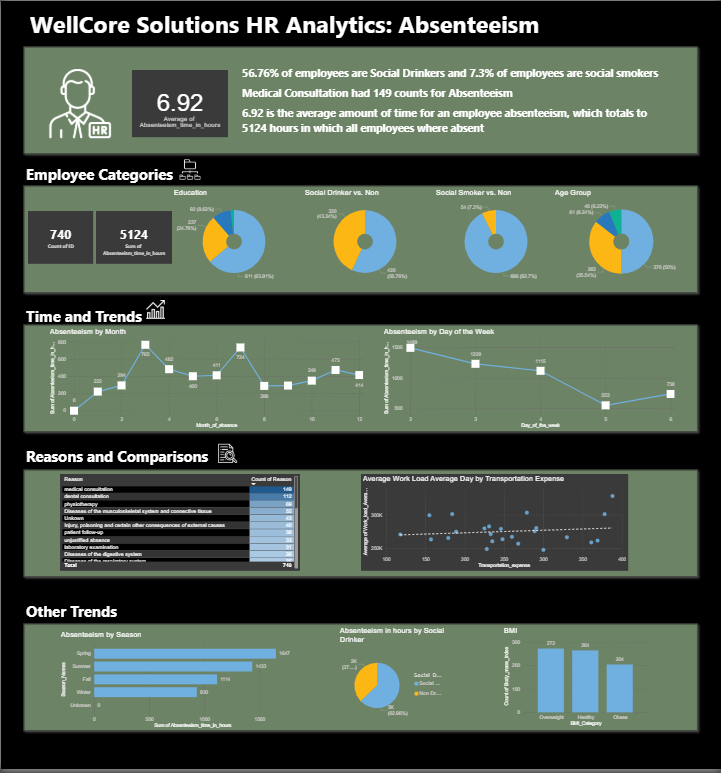

Layout of this report page (visuals, bound fields, positions):
{"tool":"powerbi","page":{"name":"Page 1","canvas":[1800,1920],"ordinal":0},"visuals":[{"type":"shape","box":[48.3,800,1703.3,286.7],"z":0},{"type":"shape","box":[48.3,1161.7,1703.3,286.7],"z":1000},{"type":"shape","box":[48.3,105,1703.3,286.7],"z":2000},{"type":"shape","box":[48.3,451.7,1703.3,286.7],"z":3000},{"type":"card","fields":{"Values":["Avg(Query1.Absenteeism_time_in_hours)"]},"box":[327.5,172.5,240,167.5],"z":4000},{"type":"donutChart","title":"Education","fields":{"Y":["Sum(Query1.Education)"],"Category":["Query1.Education"]},"box":[426.7,468.3,310,246.7],"z":5000},{"type":"donutChart","title":"Social Drinker vs. Non","fields":{"Y":["CountNonNull(Query1.Social_Drinker)"],"Category":["Query1.Social_Drinker"]},"box":[755,468.3,310,246.7],"z":6000},{"type":"donutChart","title":"Social Smoker vs. Non","fields":{"Category":["Query1.Social_Smoker"],"Y":["CountNonNull(Query1.Social_Smoker)"]},"box":[1083.3,468.3,310,246.7],"z":7000},{"type":"donutChart","title":"Age Group","fields":{"Y":["CountNonNull(Query1.Age_Group)"],"Category":["Query1.Age_Group"]},"box":[1380,468.3,341.7,246.7],"z":8000},{"type":"lineChart","title":"Absenteeism by Day of the Week","fields":{"Y":["Sum(Query1.Absenteeism_time_in_hours)"],"Category":["Query1.Day_of_the_week"]},"box":[951.7,815,736.7,258.3],"z":9000},{"type":"lineChart","title":"Absenteeism by Month","fields":{"Y":["Sum(Query1.Absenteeism_time_in_hours)"],"Category":["Query1.Month_of_absence"]},"box":[116.7,815,793.3,258.3],"z":10000},{"type":"tableEx","fields":{"Values":["Query1.Reason","CountNonNull(Query1.Reason)"]},"box":[148.3,1183.3,600,241.7],"z":11000},{"type":"scatterChart","title":"Average Work Load Average Day by Transportation Expense","fields":{"X":["Query1.Transportation_expense"],"Y":["Query1.Work_load_Average_day"]},"box":[900,1183.3,668.3,241.7],"z":12000},{"type":"card","fields":{"Values":["CountNonNull(Query1.ID)"]},"box":[66.7,525,163.3,131.7],"z":13000},{"type":"card","fields":{"Values":["Sum(Query1.Absenteeism_time_in_hours)"]},"box":[236.7,525,190,131.7],"z":14000},{"type":"textbox","box":[66.7,13.3,1298.3,105],"z":15000},{"type":"textbox","box":[56.7,401.7,688.3,76.7],"z":16000},{"type":"textbox","box":[56.7,756.7,688.3,76.7],"z":17000},{"type":"textbox","box":[56.7,1106.7,688.3,76.7],"z":18000},{"type":"shape","box":[48.3,1548.3,1703.3,286.7],"z":19000},{"type":"textbox","box":[56.7,1495,688.3,76.7],"z":20000},{"type":"barChart","title":"Absenteeism by Season","fields":{"Category":["Query1.Season_Names"],"Y":["Sum(Query1.Absenteeism_time_in_hours)"]},"box":[145,1571.7,600,251.7],"z":21000},{"type":"image","box":[66.7,165,260,183.3],"z":22000},{"type":"image","box":[433.3,390,80,61.7],"z":23000},{"type":"image","box":[358.3,743.3,56.7,56.7],"z":24000},{"type":"image","box":[538.3,1100,58.3,61.7],"z":25000},{"type":"textbox","box":[596.7,155,1070,261.7],"z":26000},{"type":"pieChart","title":"Absenteeism in hours by Social Drinker","fields":{"Category":["Query1.Social_Drinker"],"Y":["Sum(Query1.Absenteeism_time_in_hours)"]},"box":[843.3,1563.3,275,255],"z":27000},{"type":"clusteredColumnChart","title":"BMI","fields":{"Y":["CountNonNull(Query1.Body_mass_index)"],"Category":["Query1.BMI_Category"]},"box":[1253.3,1563.3,370,255],"z":27001}]}

Visuals, with their boxes in screenshot pixels (x1, y1, x2, y2), scaled from the page's 1800x1920 canvas onto the 721x773 screenshot:
shape: 19, 322, 702, 438
shape: 19, 468, 702, 583
shape: 19, 42, 702, 158
shape: 19, 182, 702, 297
card - Avg(Query1.Absenteeism_time_in_hours): 131, 69, 227, 137
"Education" donutChart: 171, 189, 295, 288
"Social Drinker vs. Non" donutChart: 302, 189, 427, 288
"Social Smoker vs. Non" donutChart: 434, 189, 558, 288
"Age Group" donutChart: 553, 189, 690, 288
"Absenteeism by Day of the Week" lineChart: 381, 328, 676, 432
"Absenteeism by Month" lineChart: 47, 328, 365, 432
tableEx - Query1.Reason x CountNonNull(Query1.Reason): 59, 476, 300, 574
"Average Work Load Average Day by Transportation Expense" scatterChart: 360, 476, 628, 574
card - CountNonNull(Query1.ID): 27, 211, 92, 264
card - Sum(Query1.Absenteeism_time_in_hours): 95, 211, 171, 264
textbox: 27, 5, 547, 48
textbox: 23, 162, 298, 193
textbox: 23, 305, 298, 336
textbox: 23, 446, 298, 476
shape: 19, 623, 702, 739
textbox: 23, 602, 298, 633
"Absenteeism by Season" barChart: 58, 633, 298, 734
image: 27, 66, 131, 140
image: 174, 157, 206, 182
image: 144, 299, 166, 322
image: 216, 443, 239, 468
textbox: 239, 62, 668, 168
"Absenteeism in hours by Social Drinker" pieChart: 338, 629, 448, 732
"BMI" clusteredColumnChart: 502, 629, 650, 732
